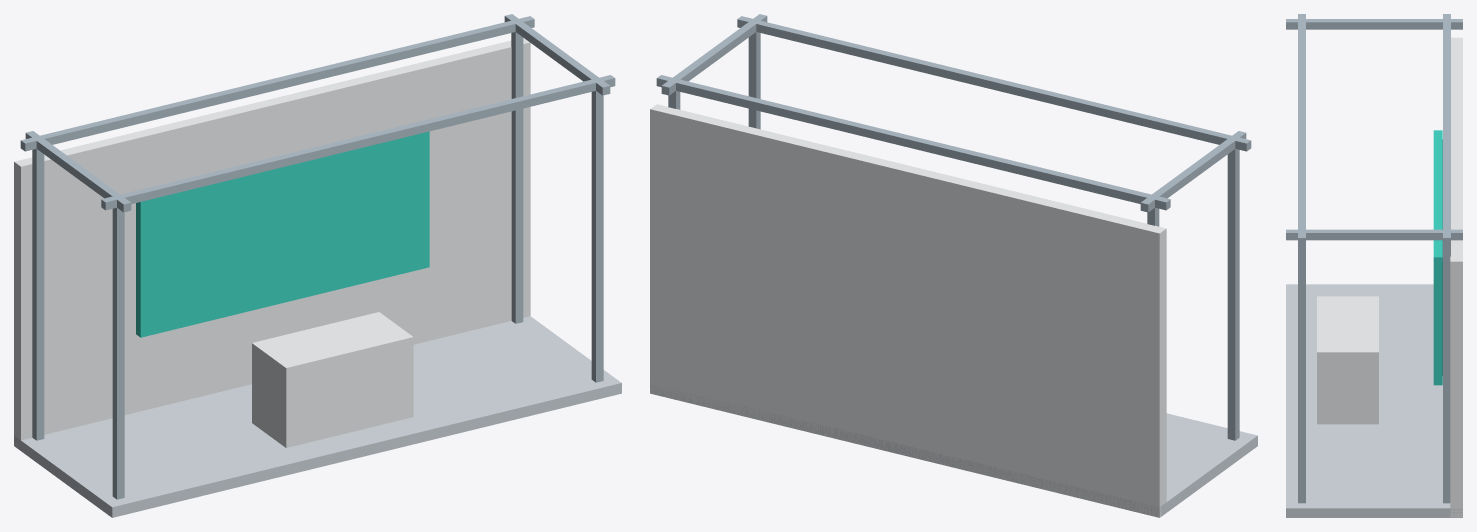
The picture shows the model from 3 angles, left to right: view 1: azimuth 30°, elevation 25°; view 2: azimuth 150°, elevation 25°; view 3: azimuth 270°, elevation 25°; orthographic projection. The views are drawn at different scales.
Parts seen in each view (by area): view 1: Exhibition Booth Concept; view 2: Exhibition Booth Concept; view 3: Exhibition Booth Concept.
Boxes of the visible parts, x1=… form: Exhibition Booth Concept: x1=14, y1=14, x2=621, y2=517; Exhibition Booth Concept: x1=650, y1=14, x2=1257, y2=517; Exhibition Booth Concept: x1=1286, y1=14, x2=1462, y2=517.
Size of the model in its own units: 6 by 3.49 by 2.
